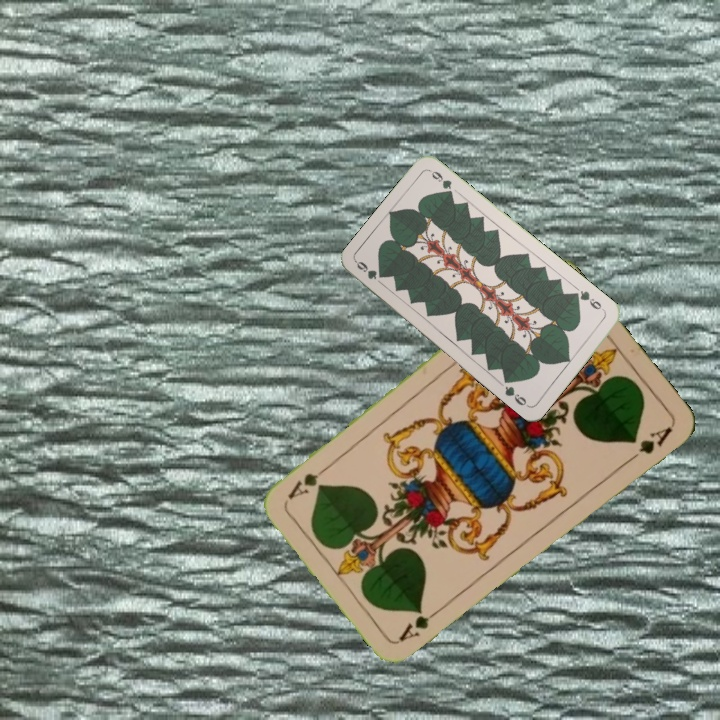G9: (570, 286, 608, 314), (352, 257, 384, 282)
GA: (394, 602, 446, 644)
